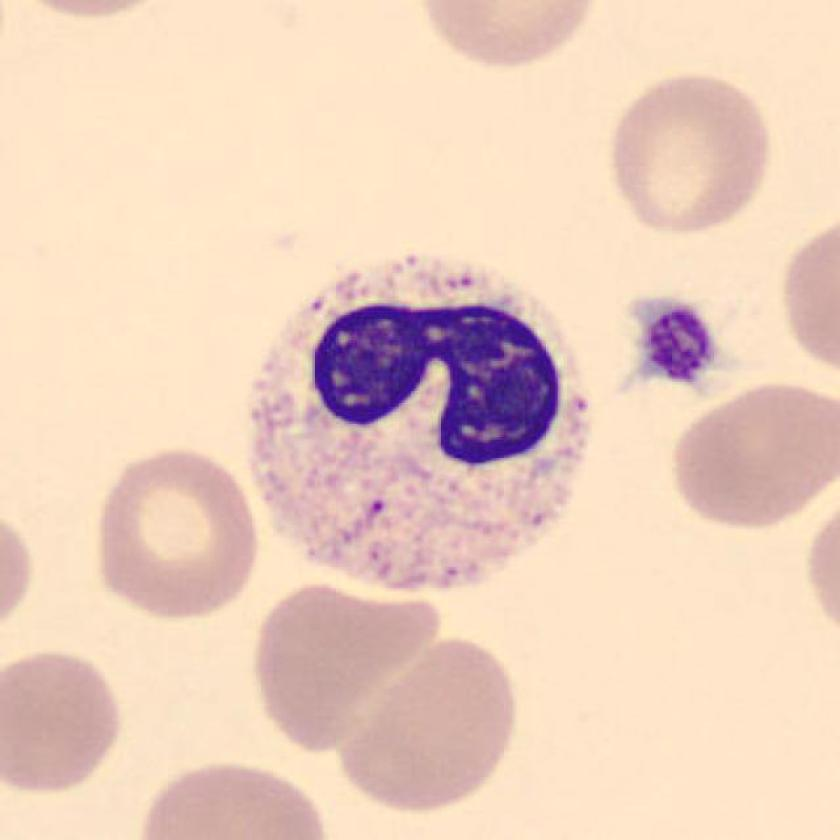neutrophil: (244, 254, 585, 588)
